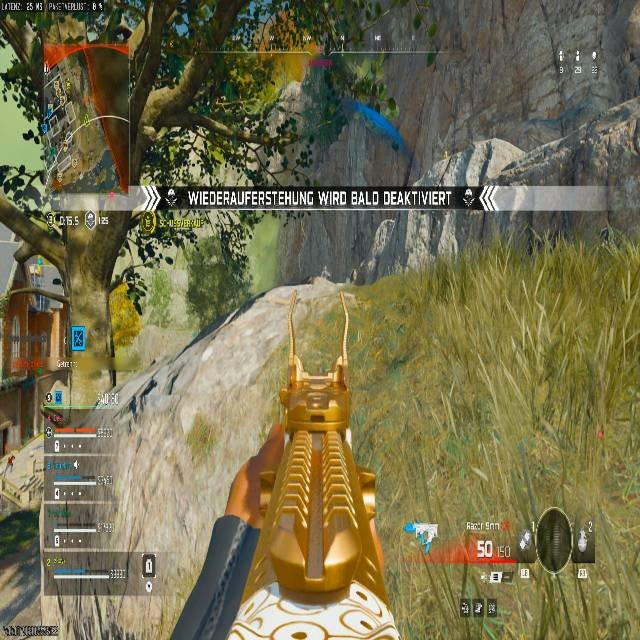player: (119, 193, 197, 317), (123, 267, 146, 317)
